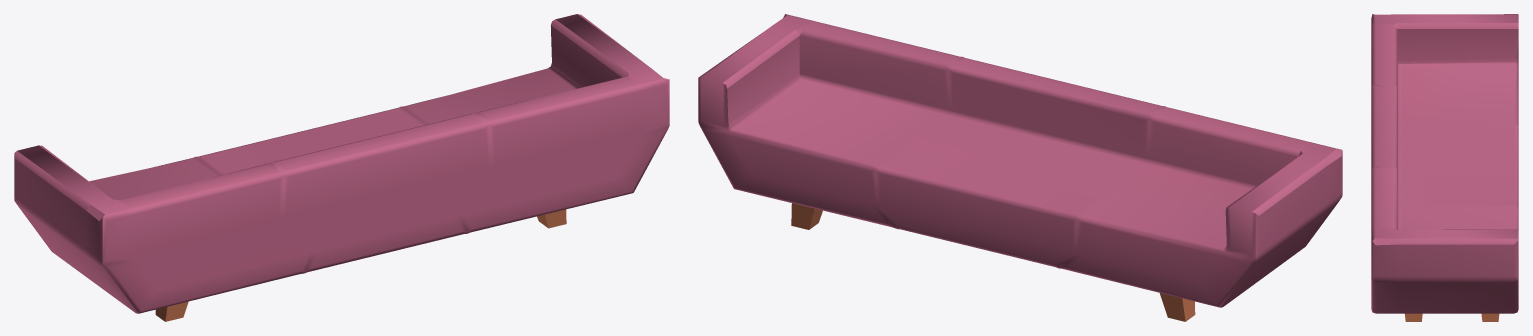
Rendered from obj_couch_3x1_flipped.FBX.
3 renders of one model, left to right at view 1: azimuth 30°, elevation 25°; view 2: azimuth 150°, elevation 25°; view 3: azimuth 270°, elevation 25°, orthographic. The views are drawn at different scales.
Parts seen in each view (by area): view 1: obj_couch_3x1; view 2: obj_couch_3x1; view 3: obj_couch_3x1.
Part boxes in pixels (bbox=[...]): obj_couch_3x1: bbox=[14, 14, 669, 321]; obj_couch_3x1: bbox=[698, 14, 1342, 321]; obj_couch_3x1: bbox=[1371, 14, 1518, 321].
Size of the model in its own units: 2.47 by 0.5804 by 0.6727.
Materials: 1 (1 with a texture image).
